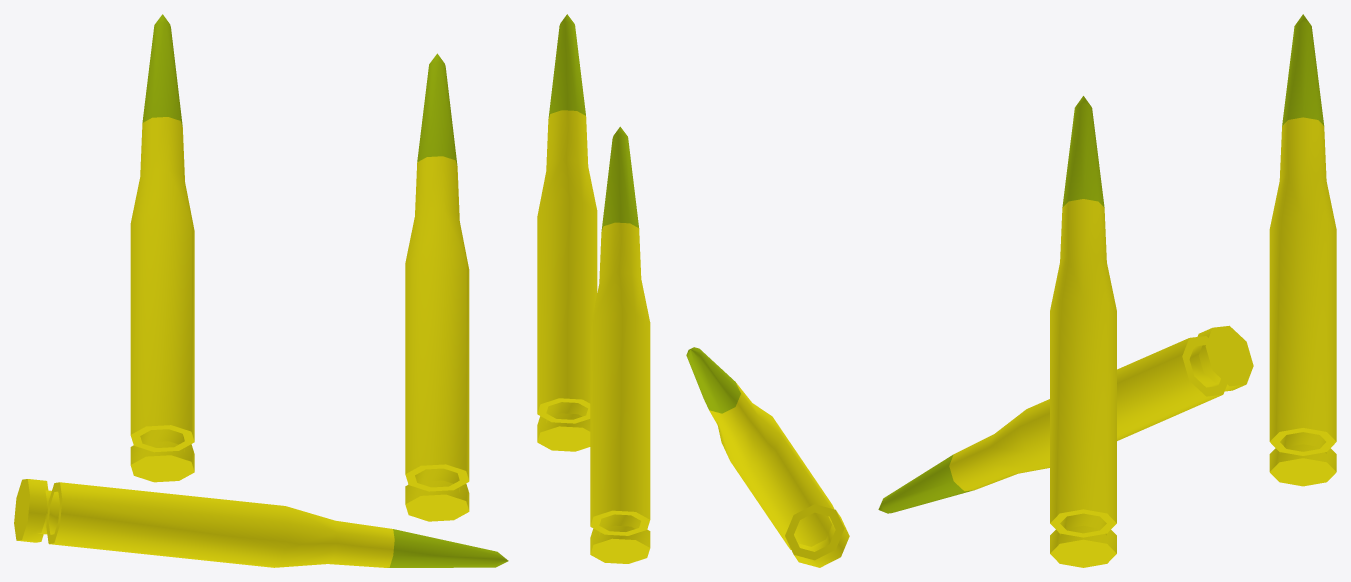
The model's file is ps2_save-icons_thesniper2.glb.
3 views of the same model, side by side, from view 1: azimuth 30°, elevation 25°; view 2: azimuth 150°, elevation 25°; view 3: azimuth 270°, elevation 25° (orthographic). The views are drawn at different scales.
Visible parts, largest first — view 1: bullet.ico; view 2: bullet.ico; view 3: bullet.ico.
Boxes of the visible parts, x1,y1,x2,y2 form: bullet.ico: [14, 14, 508, 567]; bullet.ico: [537, 14, 849, 567]; bullet.ico: [878, 14, 1336, 567].
Size of the model in its own units: 4.25 by 4.73 by 4.28.
Materials: 1 (1 with a texture image).
